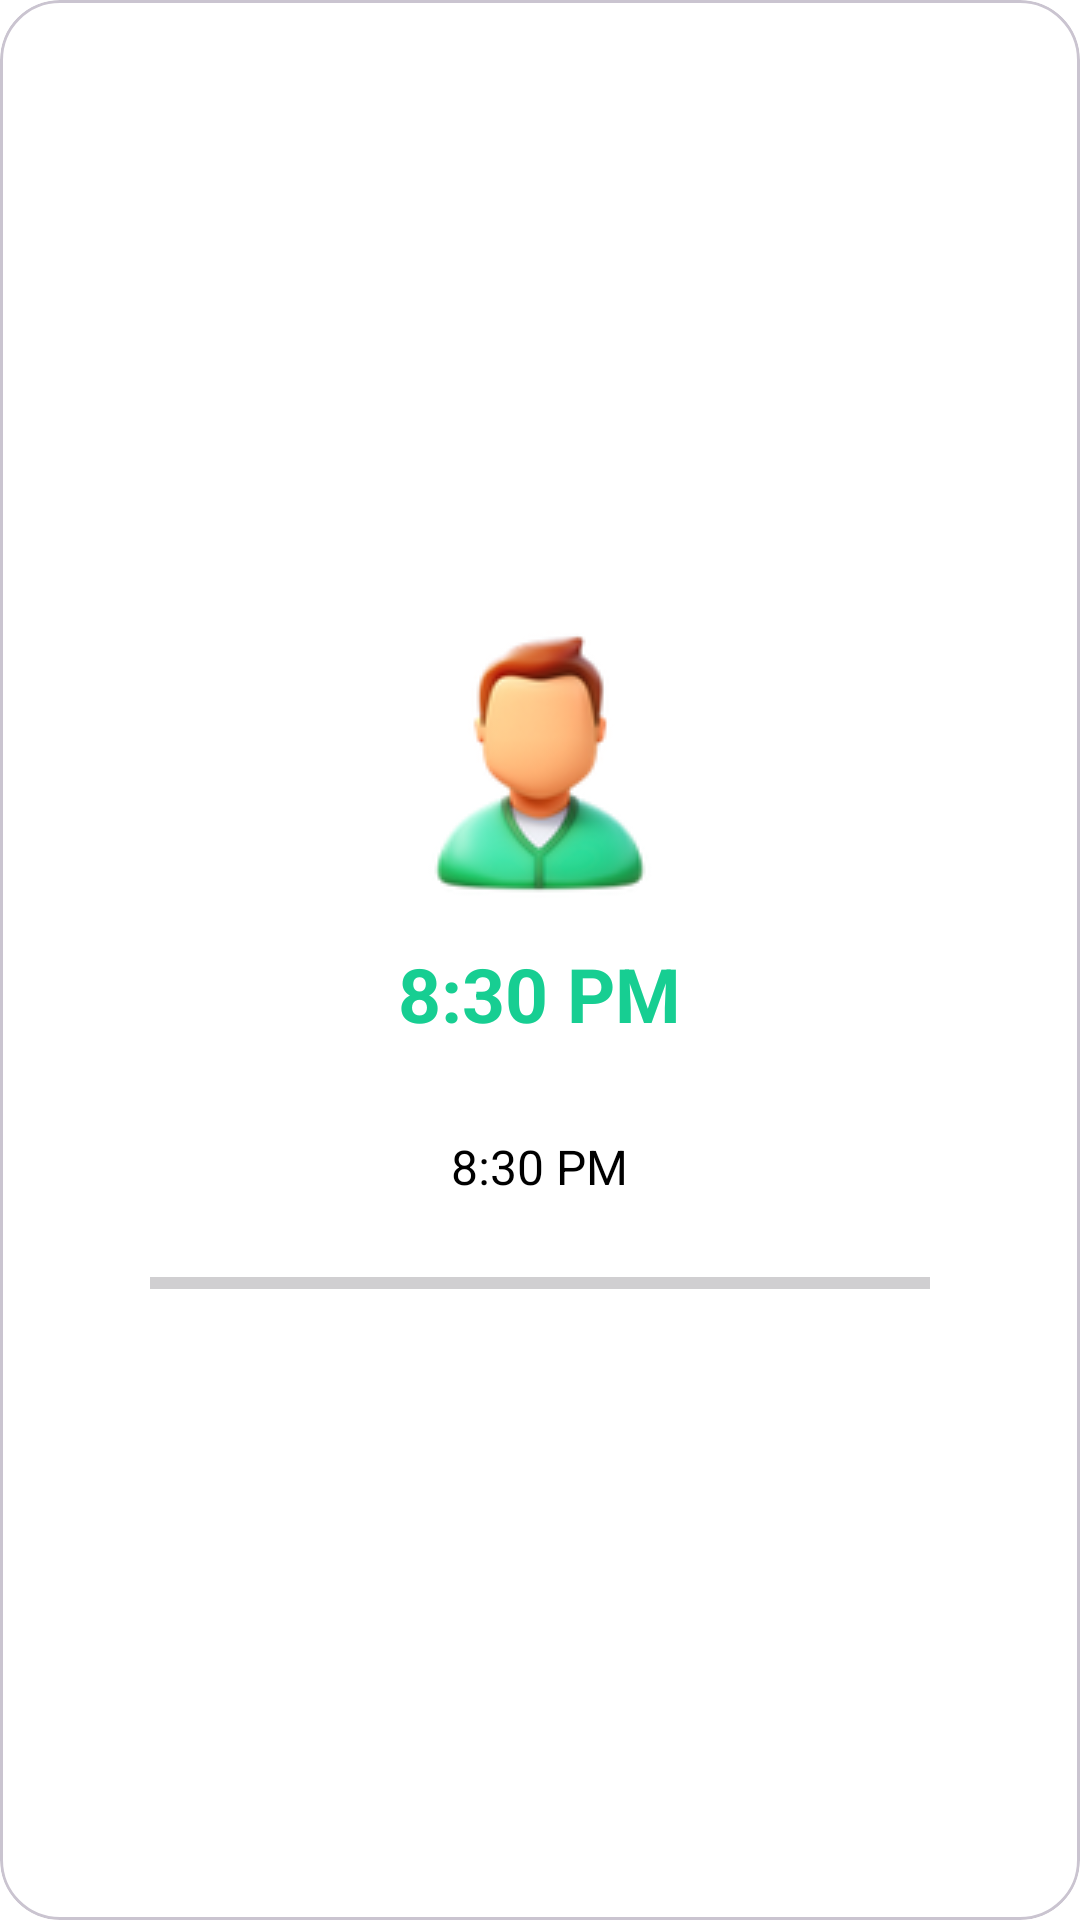

Named icons in this screenshot (1080px x 1920px) and their bounding boxes, detection(x1, y1, x2, y2):
person: detection(436, 636, 644, 891)
